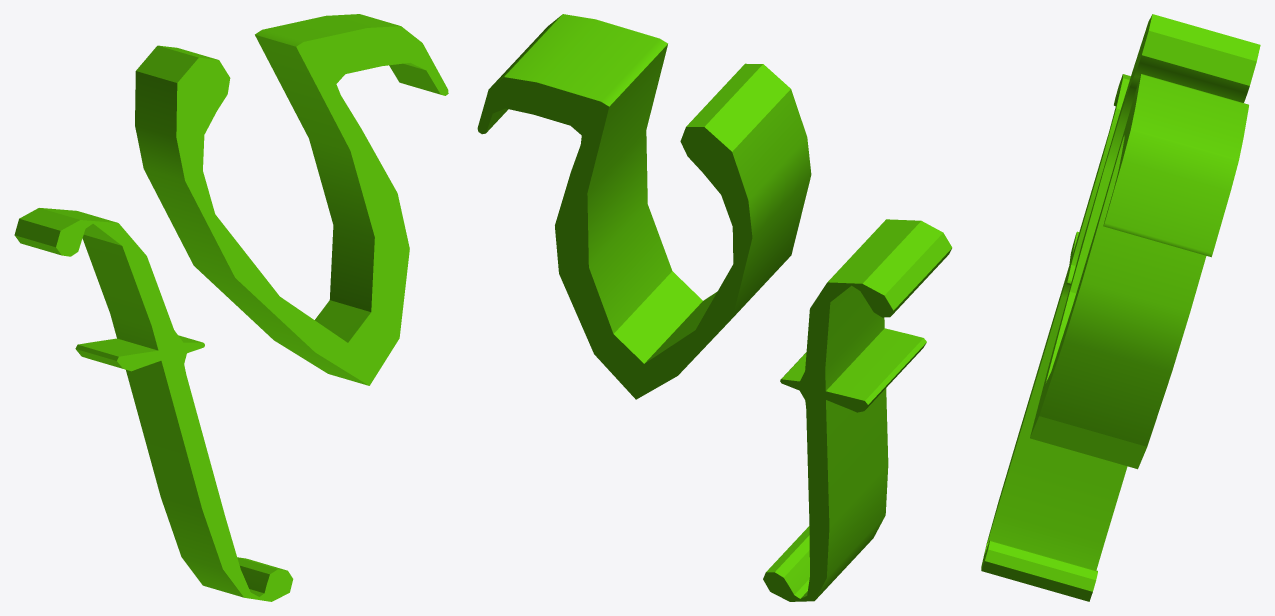
File: vf_formula_C.fbx
3 views of the same model, side by side, from view 1: azimuth 30°, elevation 25°; view 2: azimuth 150°, elevation 25°; view 3: azimuth 270°, elevation 25° (orthographic). The views are drawn at different scales.
Parts seen in each view (by area): view 1: vf_formula_C; view 2: vf_formula_C; view 3: vf_formula_C.
Boxes of the visible parts, x1=… form: vf_formula_C: x1=14, y1=14, x2=448, y2=601; vf_formula_C: x1=477, y1=14, x2=952, y2=601; vf_formula_C: x1=981, y1=14, x2=1260, y2=601.
Size of the model in its own units: 2.06 by 2.57 by 1.12.
